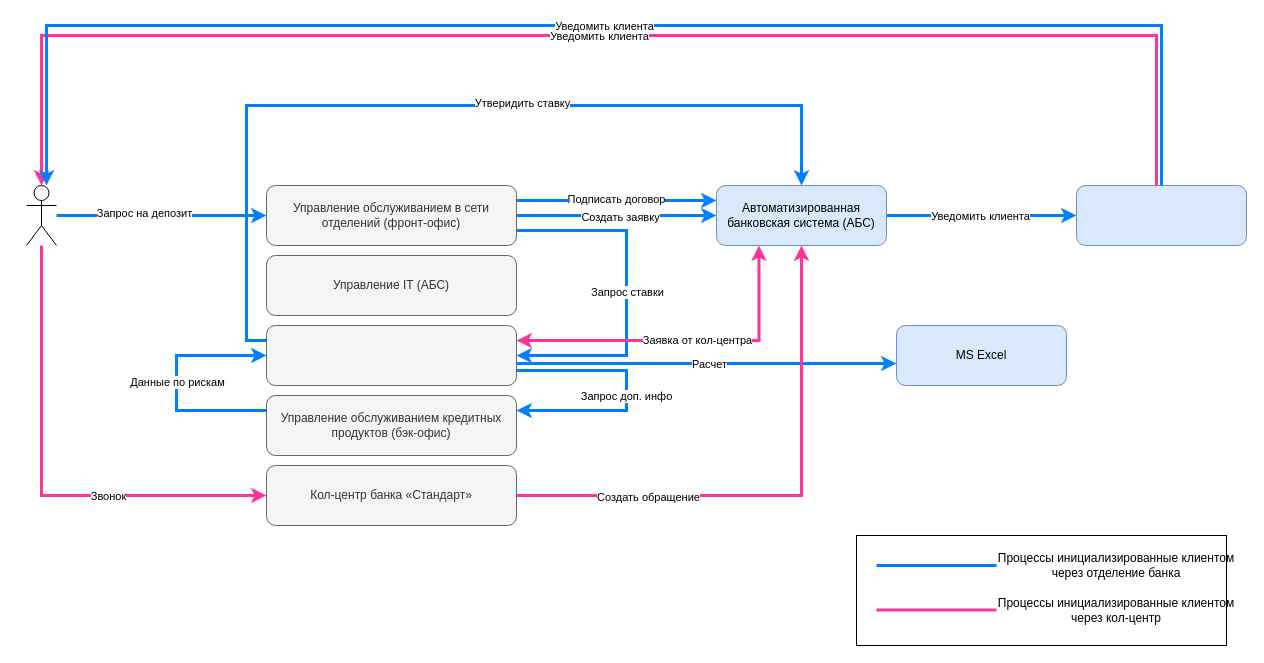
Image size: 1264x663. Some labels were removed from this diagram. Each missing label, with the centre of its shape:
"Клиенты" belongs at (41,215).
"СМС-шлюз" belongs at (1161,215).
"Управление обслуживанием депозитных продуктов (бэк-офис)" belongs at (391,355).
